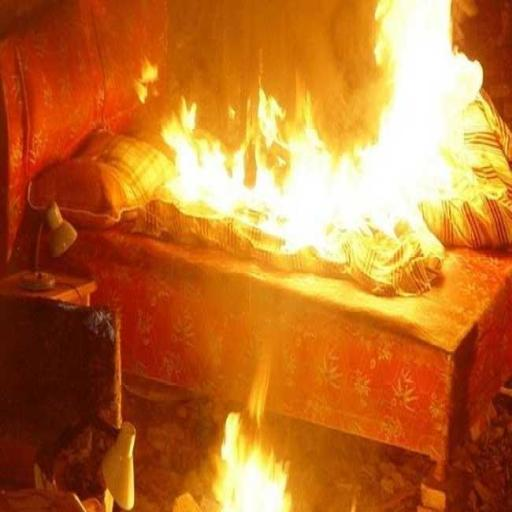fire: (56, 0, 489, 273), (167, 356, 311, 512)
